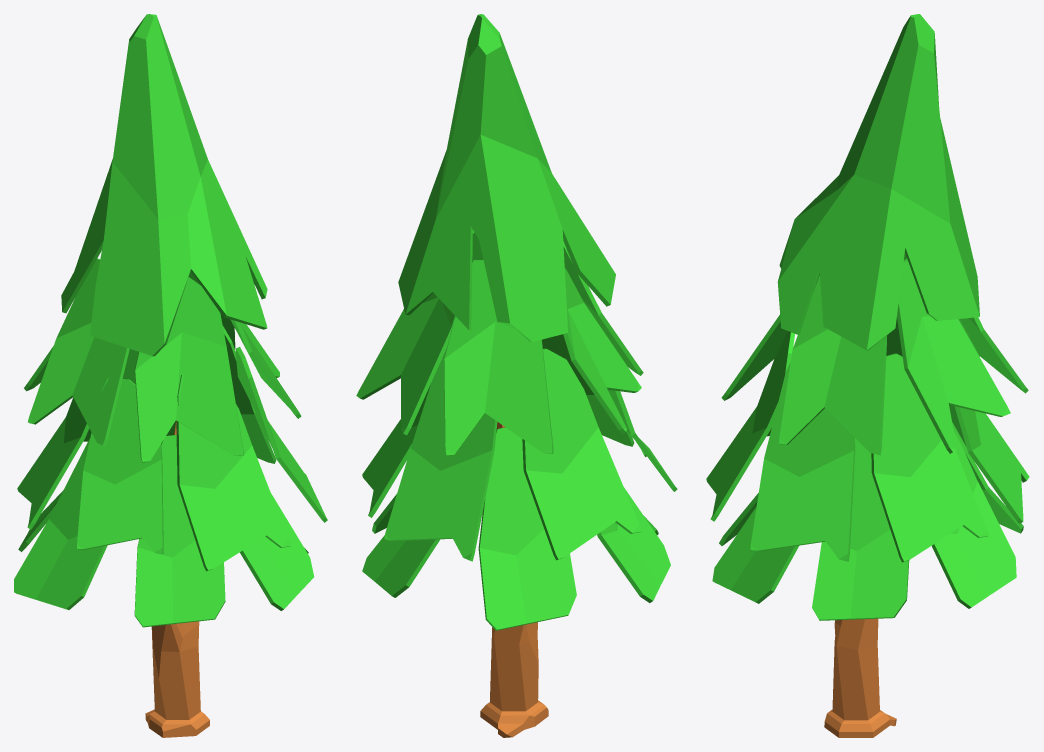
Rendered from Tree 3.fbx.
3 renders of one model, left to right at view 1: azimuth 30°, elevation 25°; view 2: azimuth 150°, elevation 25°; view 3: azimuth 270°, elevation 25°, orthographic. The views are drawn at different scales.
Parts seen in each view (by area): view 1: Tree 3; view 2: Tree 3; view 3: Tree 3.
Part boxes in pixels (x1,y1,x2,y2): Tree 3: (14,14,327,737); Tree 3: (356,14,677,737); Tree 3: (706,14,1029,737).
Size of the model in its own units: 360 by 872 by 357.
